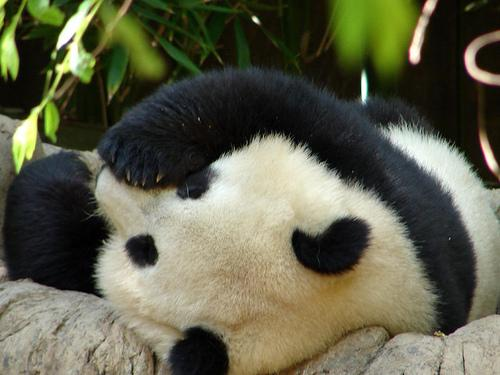panda: (4, 68, 499, 374)
